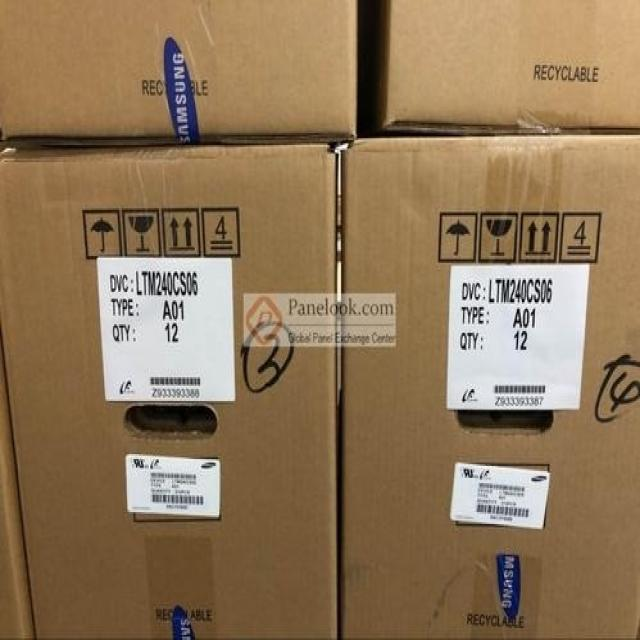Carton: (5, 143, 333, 638), (342, 137, 639, 638)
